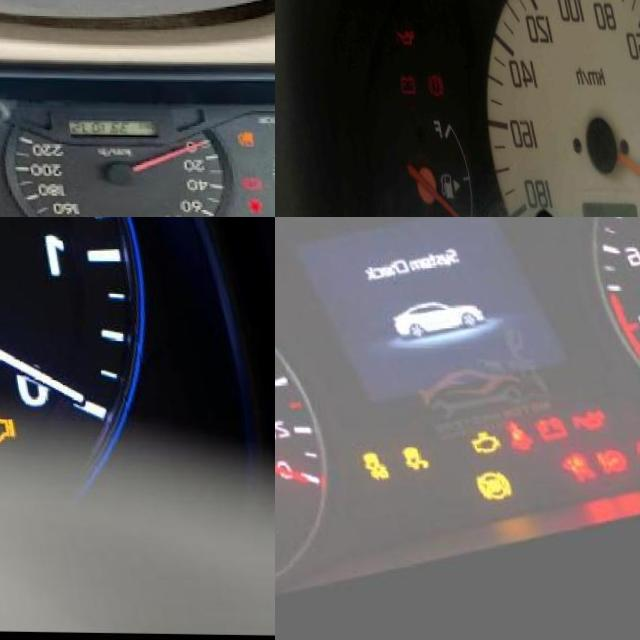Seat Belt: (483, 421, 515, 454)
